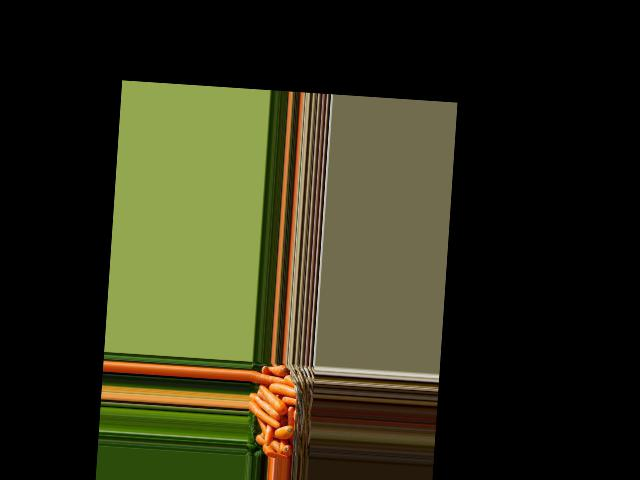carrot: (281, 445, 293, 455)
